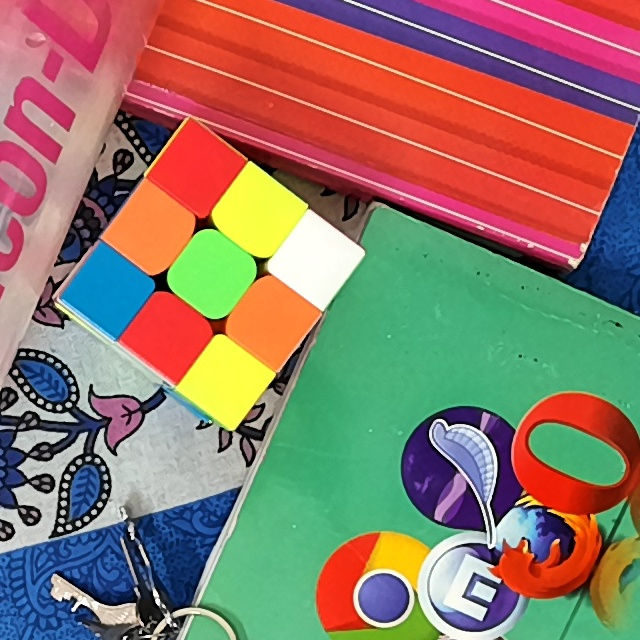tile: (230, 190, 283, 238), (245, 297, 295, 346), (126, 208, 177, 256), (185, 250, 233, 298), (170, 148, 218, 195), (145, 313, 193, 359), (202, 357, 250, 403), (81, 269, 131, 313), (294, 236, 340, 282)
